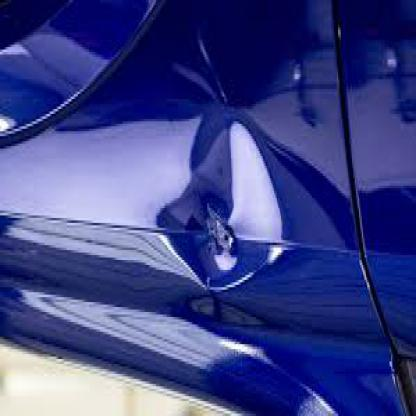dent: (150, 98, 284, 304)
